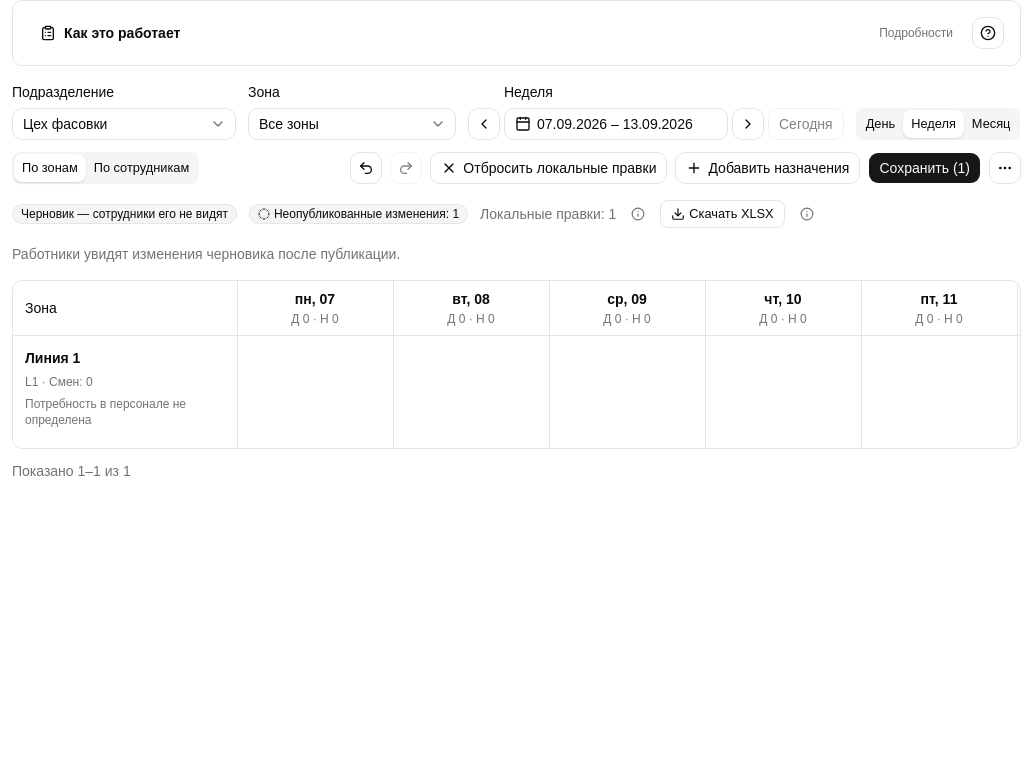
Test: schedule workspace › retains newer local edits when resolving an earlier committed save
Click the button "Сохранить (1)". click: (925, 168)
box: x1=868 y1=152 x2=981 y2=184
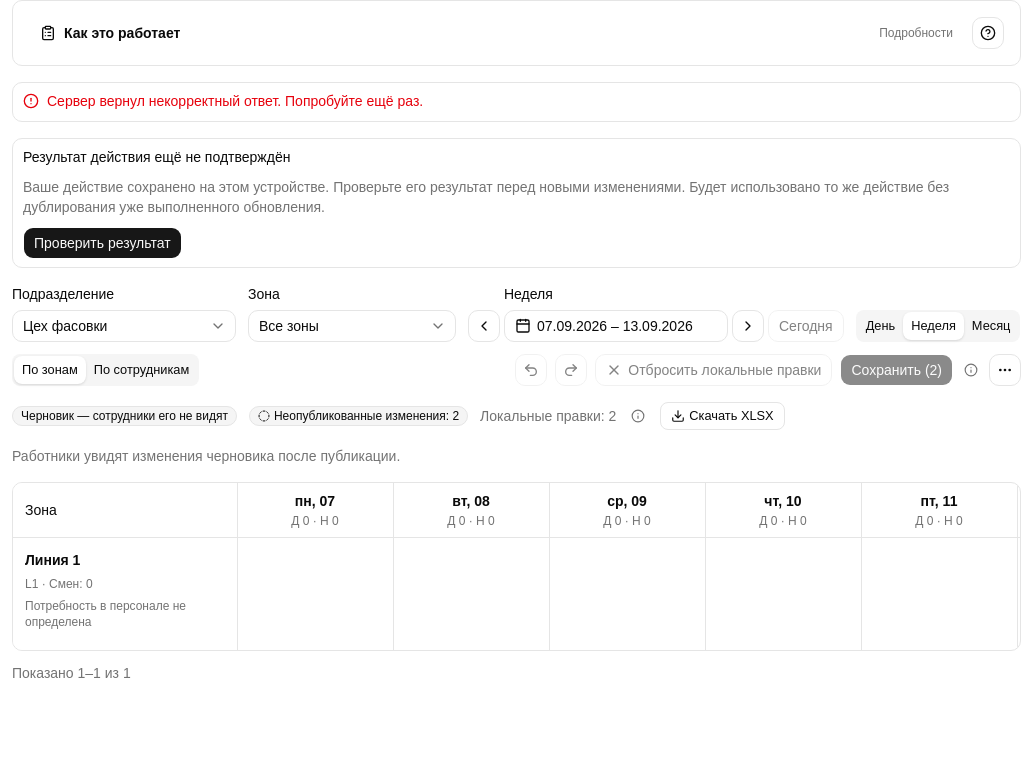
Expected: the button "Проверить результат" is shown
Click the button "Проверить результат". click: (102, 243)
box: x1=23 y1=227 x2=182 y2=259
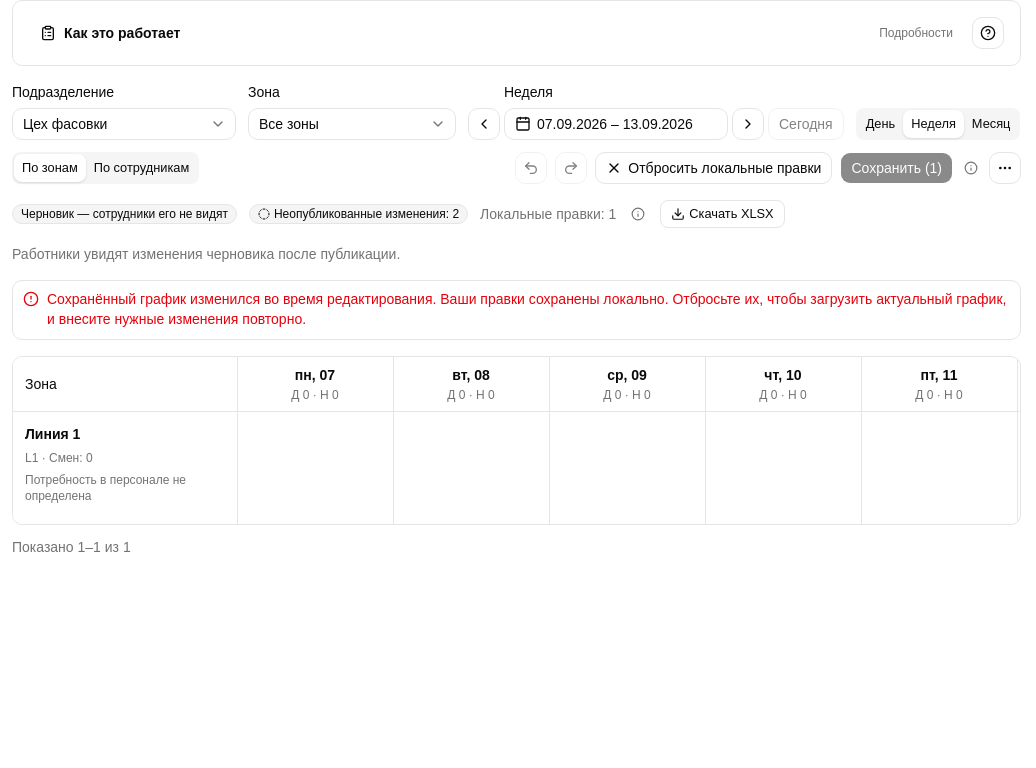
Expected: the text "Результат действия ещё не подтверждён" is gone
Expected: the text "Сохранённый график изменился во время редактирования. Ваши правки сохранены локально. Отбросьте их, чтобы загрузить акту" is shown, x1=47 y1=291 x2=1006 y2=327
